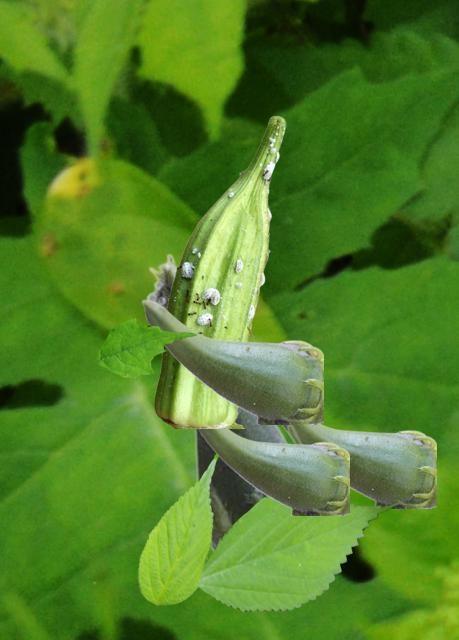okra: (145, 253, 303, 557), (154, 116, 285, 427), (141, 299, 322, 423), (197, 428, 348, 514), (280, 424, 435, 507)
